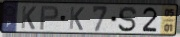2: (142, 7, 159, 33)
7: (92, 5, 109, 33)
K: (68, 6, 86, 32), (20, 5, 38, 31)
P: (38, 5, 60, 31)
S: (117, 5, 139, 33)
